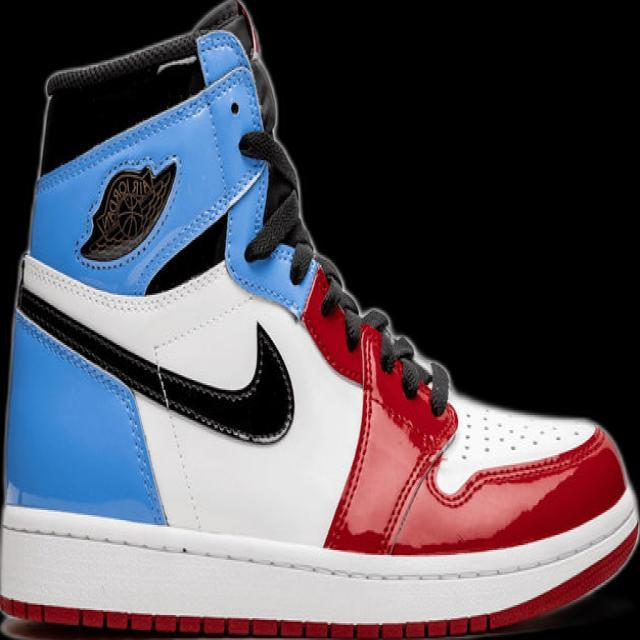J1_InsoleChar: (1, 0, 638, 639)
J1_ShoeLogo: (76, 157, 177, 265)
J1_StitchPattern: (11, 253, 604, 553), (235, 126, 601, 495), (237, 127, 452, 417), (1, 505, 637, 588), (14, 281, 296, 446), (314, 263, 452, 416), (1, 599, 493, 637), (236, 127, 318, 281), (361, 306, 452, 416), (452, 406, 589, 465), (424, 358, 451, 417)
